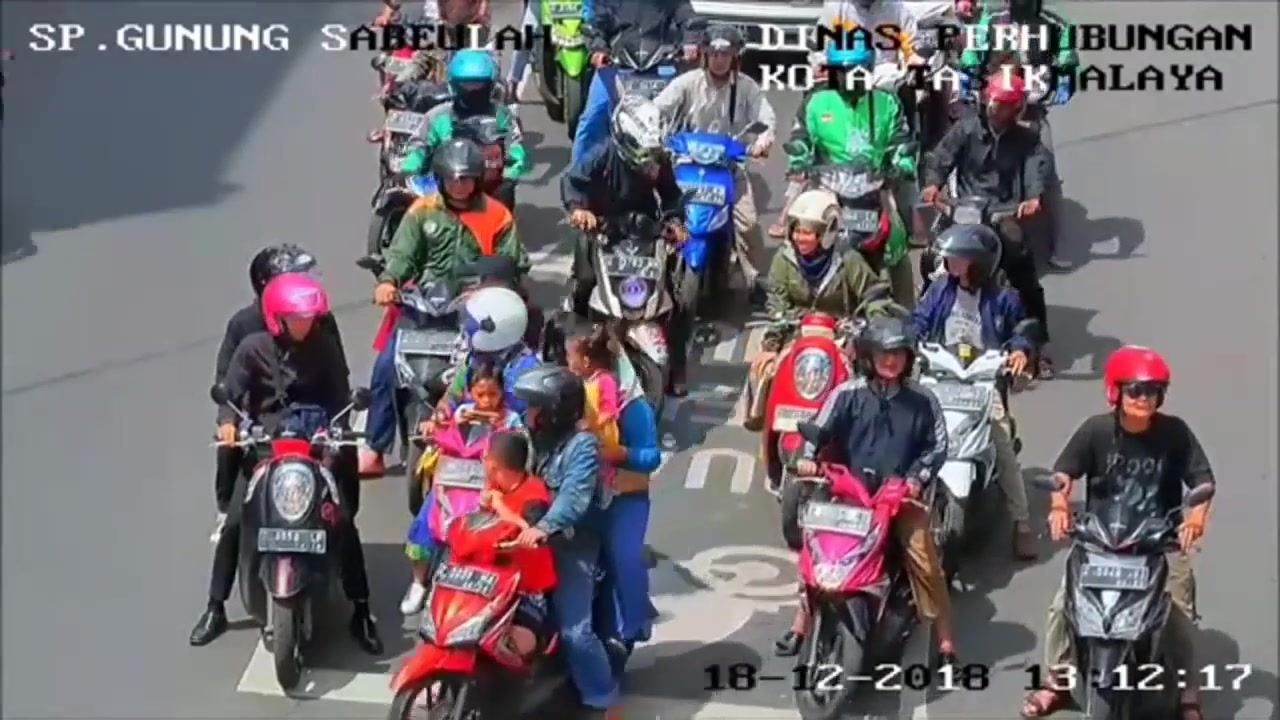person with helmet: (1096, 339, 1186, 452), (926, 218, 1012, 315), (595, 93, 679, 191), (251, 272, 336, 359), (505, 365, 586, 455), (778, 185, 852, 276), (422, 135, 499, 222), (439, 46, 515, 129), (852, 318, 922, 403)
